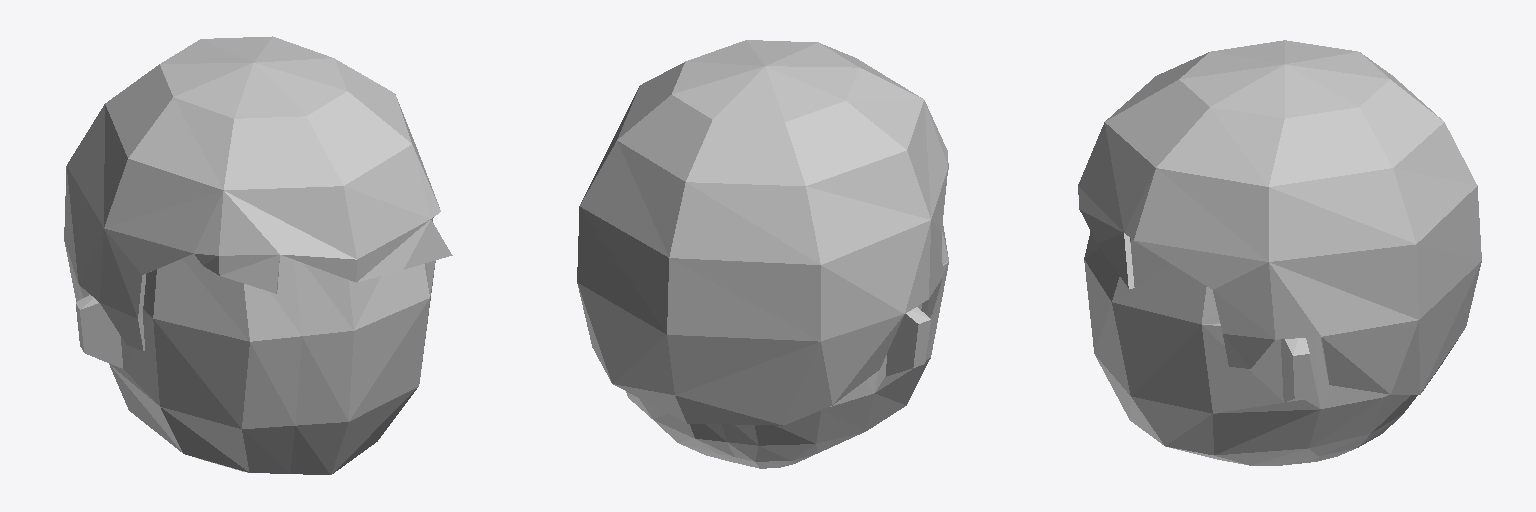
File: head.obj
The picture shows the model from 3 angles: view 1: azimuth 30°, elevation 25°; view 2: azimuth 150°, elevation 25°; view 3: azimuth 270°, elevation 25°; orthographic projection.
Visible parts, largest first — view 1: Body_body_mesh; view 2: Body_body_mesh; view 3: Body_body_mesh.
Part boxes in pixels (left/top/right/bottom): Body_body_mesh: left=64, top=36, right=452, bottom=474; Body_body_mesh: left=577, top=40, right=948, bottom=468; Body_body_mesh: left=1078, top=40, right=1481, bottom=465.
Size of the model in its own units: 0.5404 by 0.5828 by 0.5571.